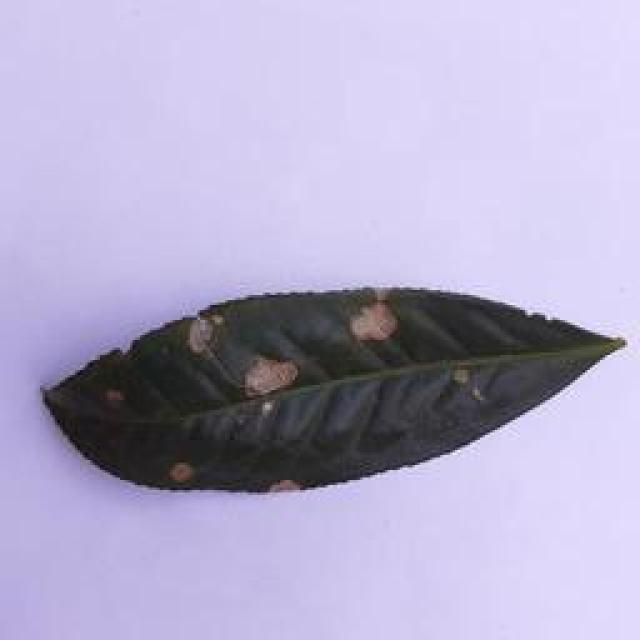Gray Blight: (33, 284, 628, 500)
